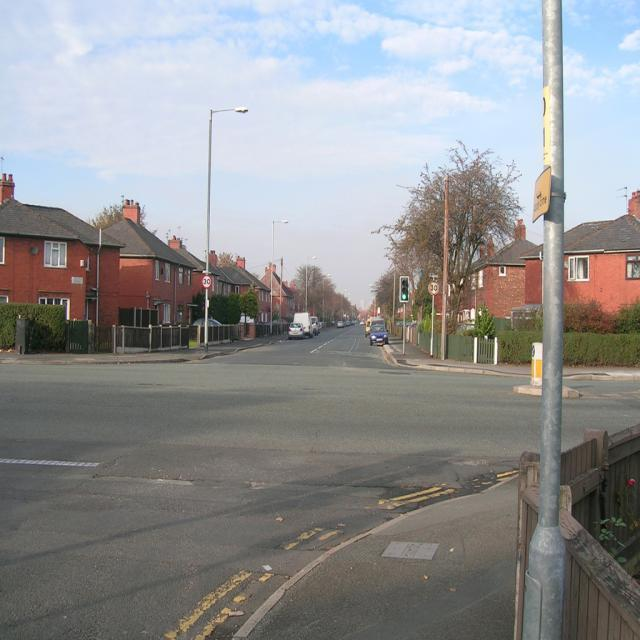road_sign: (427, 280, 440, 295), (200, 275, 213, 289)
traffic light: (399, 277, 410, 303)
